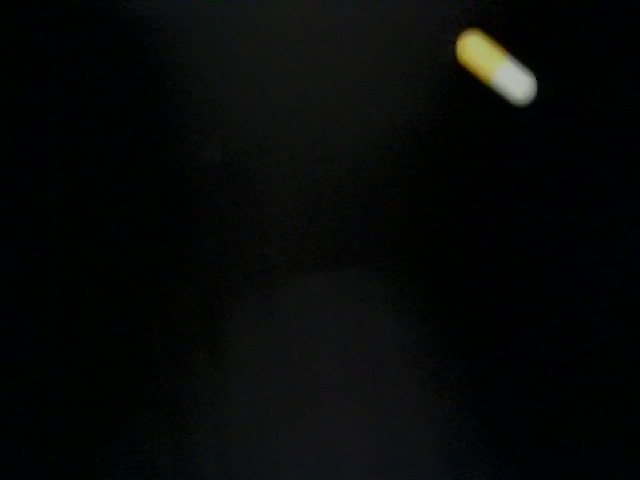YHLJ: (229, 157, 497, 278)
